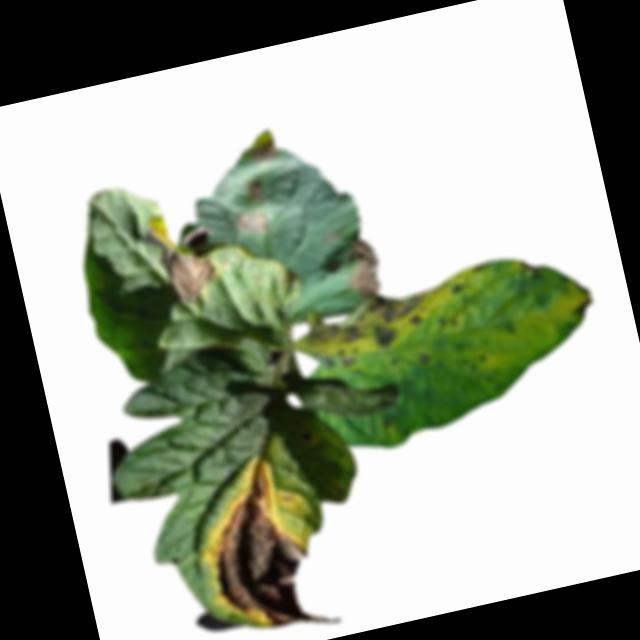Early_blight: (190, 455, 344, 640), (291, 283, 458, 380), (144, 204, 221, 311), (342, 236, 384, 300), (568, 283, 597, 320), (249, 136, 277, 165), (242, 206, 270, 234), (246, 179, 267, 204), (319, 226, 343, 245)
